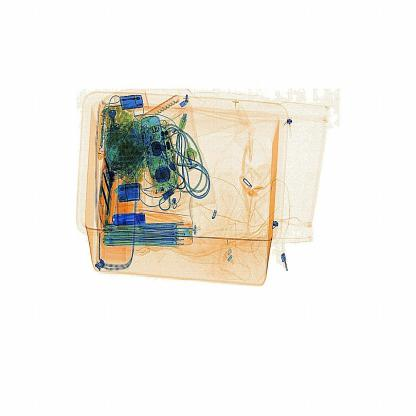knife: (110, 209, 148, 231)
